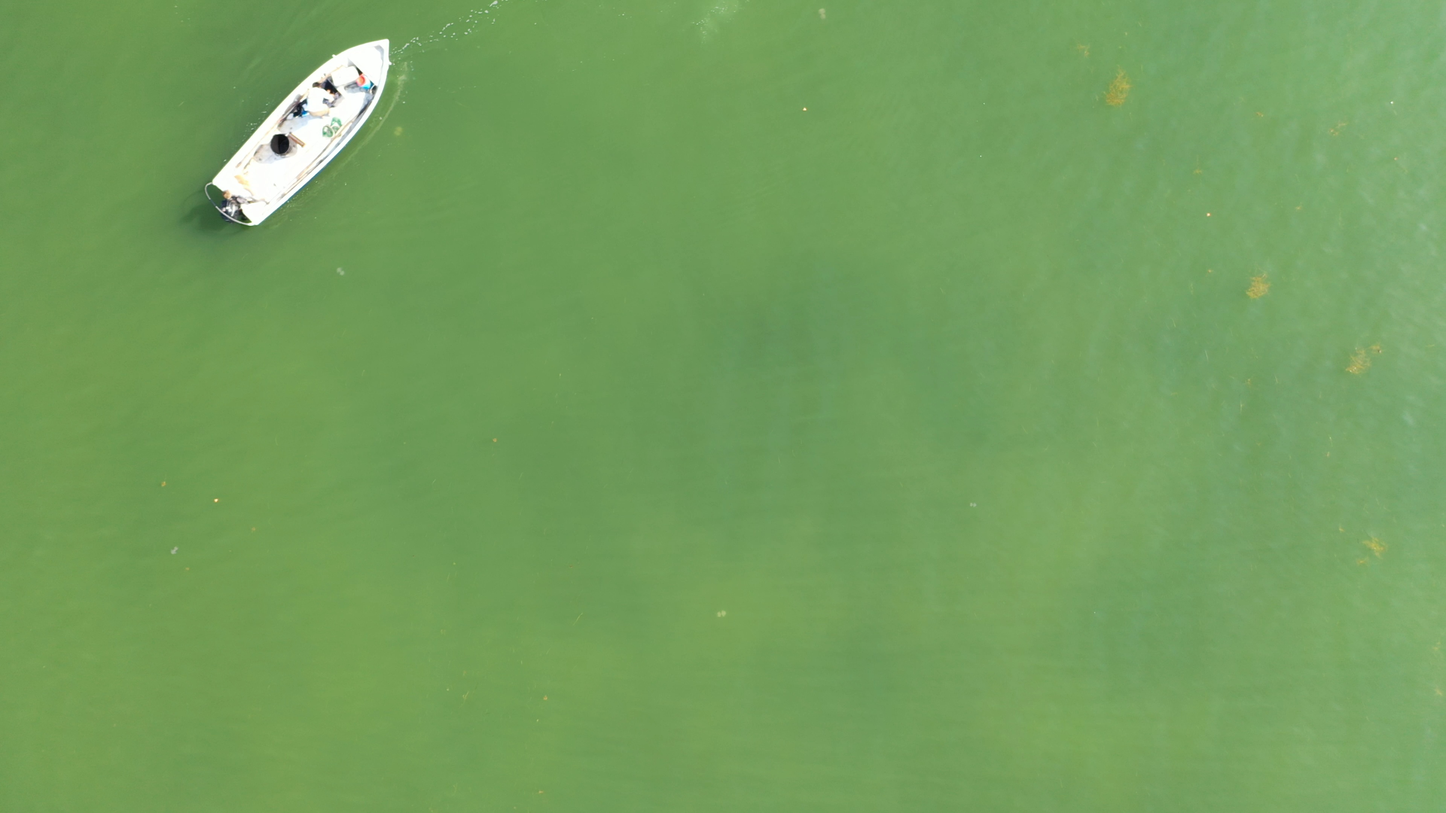meduse: (395, 127, 404, 140), (820, 11, 829, 20), (337, 269, 345, 277), (718, 611, 726, 619), (171, 547, 178, 555), (970, 502, 976, 509)
